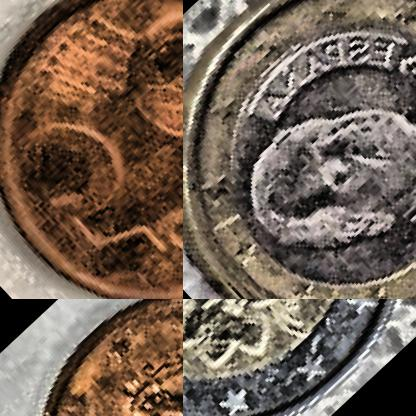coin: (183, 0, 415, 298), (0, 0, 182, 298), (183, 299, 415, 415), (0, 299, 182, 415)
